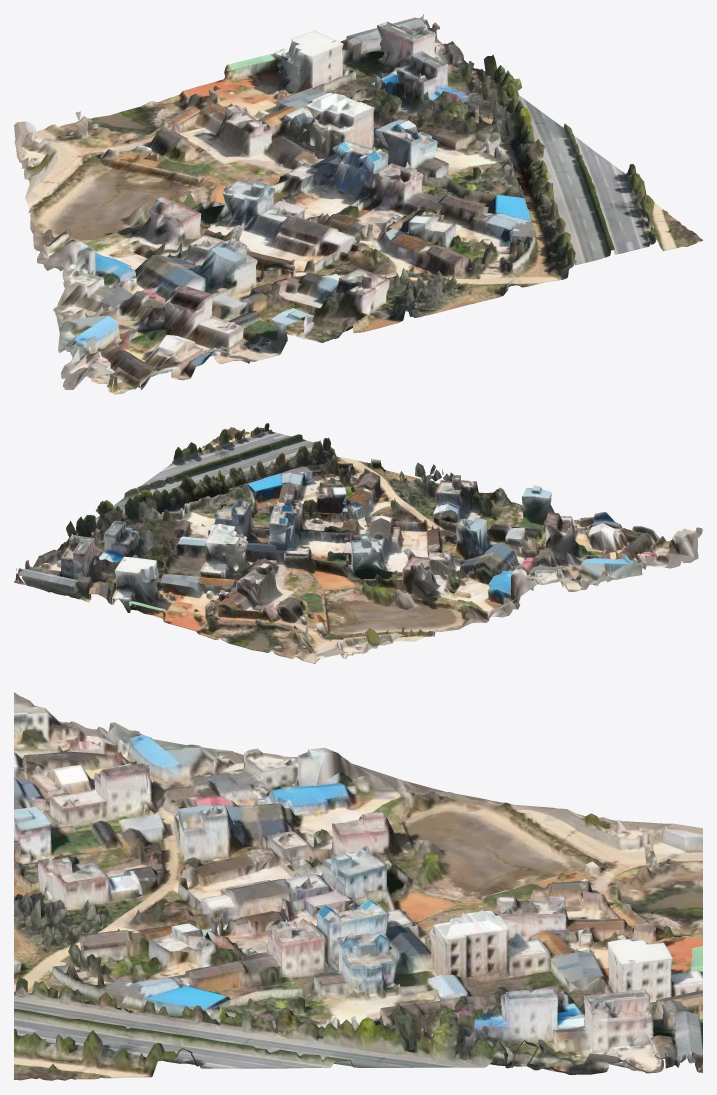
Rendered from BlockBY_L17_45.glb.
The picture shows the model from 3 angles, top to bottom: view 1: azimuth 30°, elevation 25°; view 2: azimuth 150°, elevation 25°; view 3: azimuth 270°, elevation 25°; orthographic projection. The views are drawn at different scales.
Visible parts, largest first — view 1: rtc; view 2: rtc; view 3: rtc.
Part boxes in pixels (<box>): rtc: <box>14,14,702,394</box>; rtc: <box>14,423,702,663</box>; rtc: <box>14,692,702,1080</box>.
Bounding box in the file's own units: 210 × 19.79 × 165.
5 materials, 5 textured.
